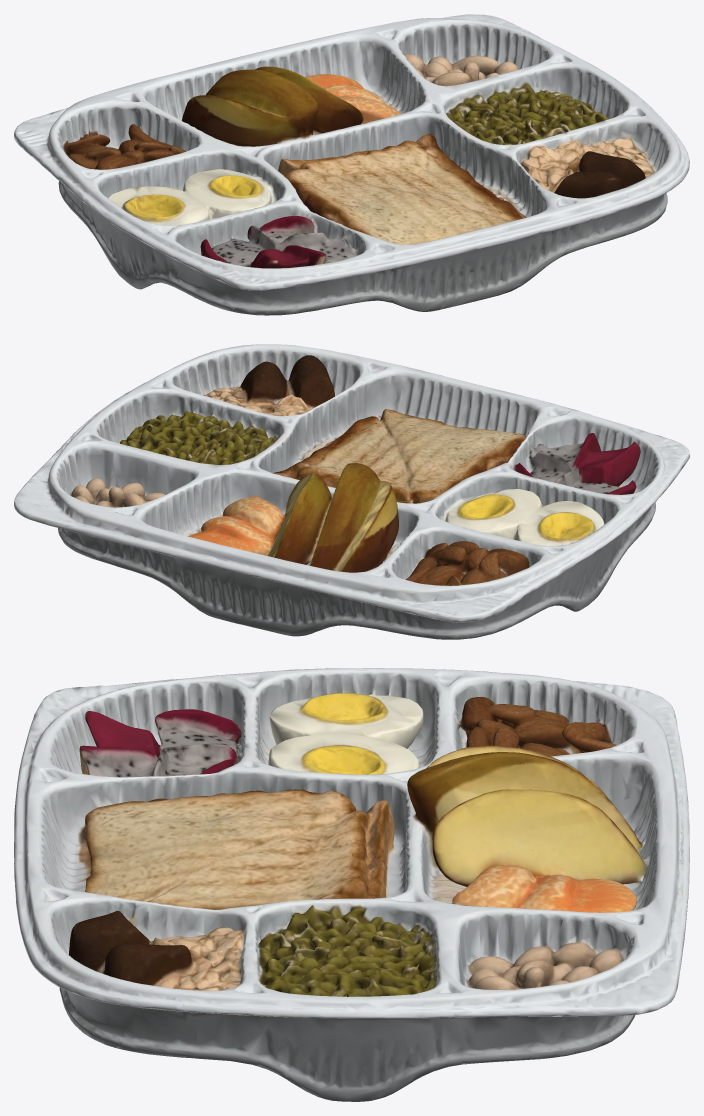
File: Premium_Non_veg_sandwhich.glb
3 renders of one model, top to bottom at view 1: azimuth 30°, elevation 25°; view 2: azimuth 150°, elevation 25°; view 3: azimuth 270°, elevation 25°, orthographic. The views are drawn at different scales.
Size of the model in its own units: 1.9 by 0.4321 by 1.57.
Materials: 1 (1 with a texture image).
